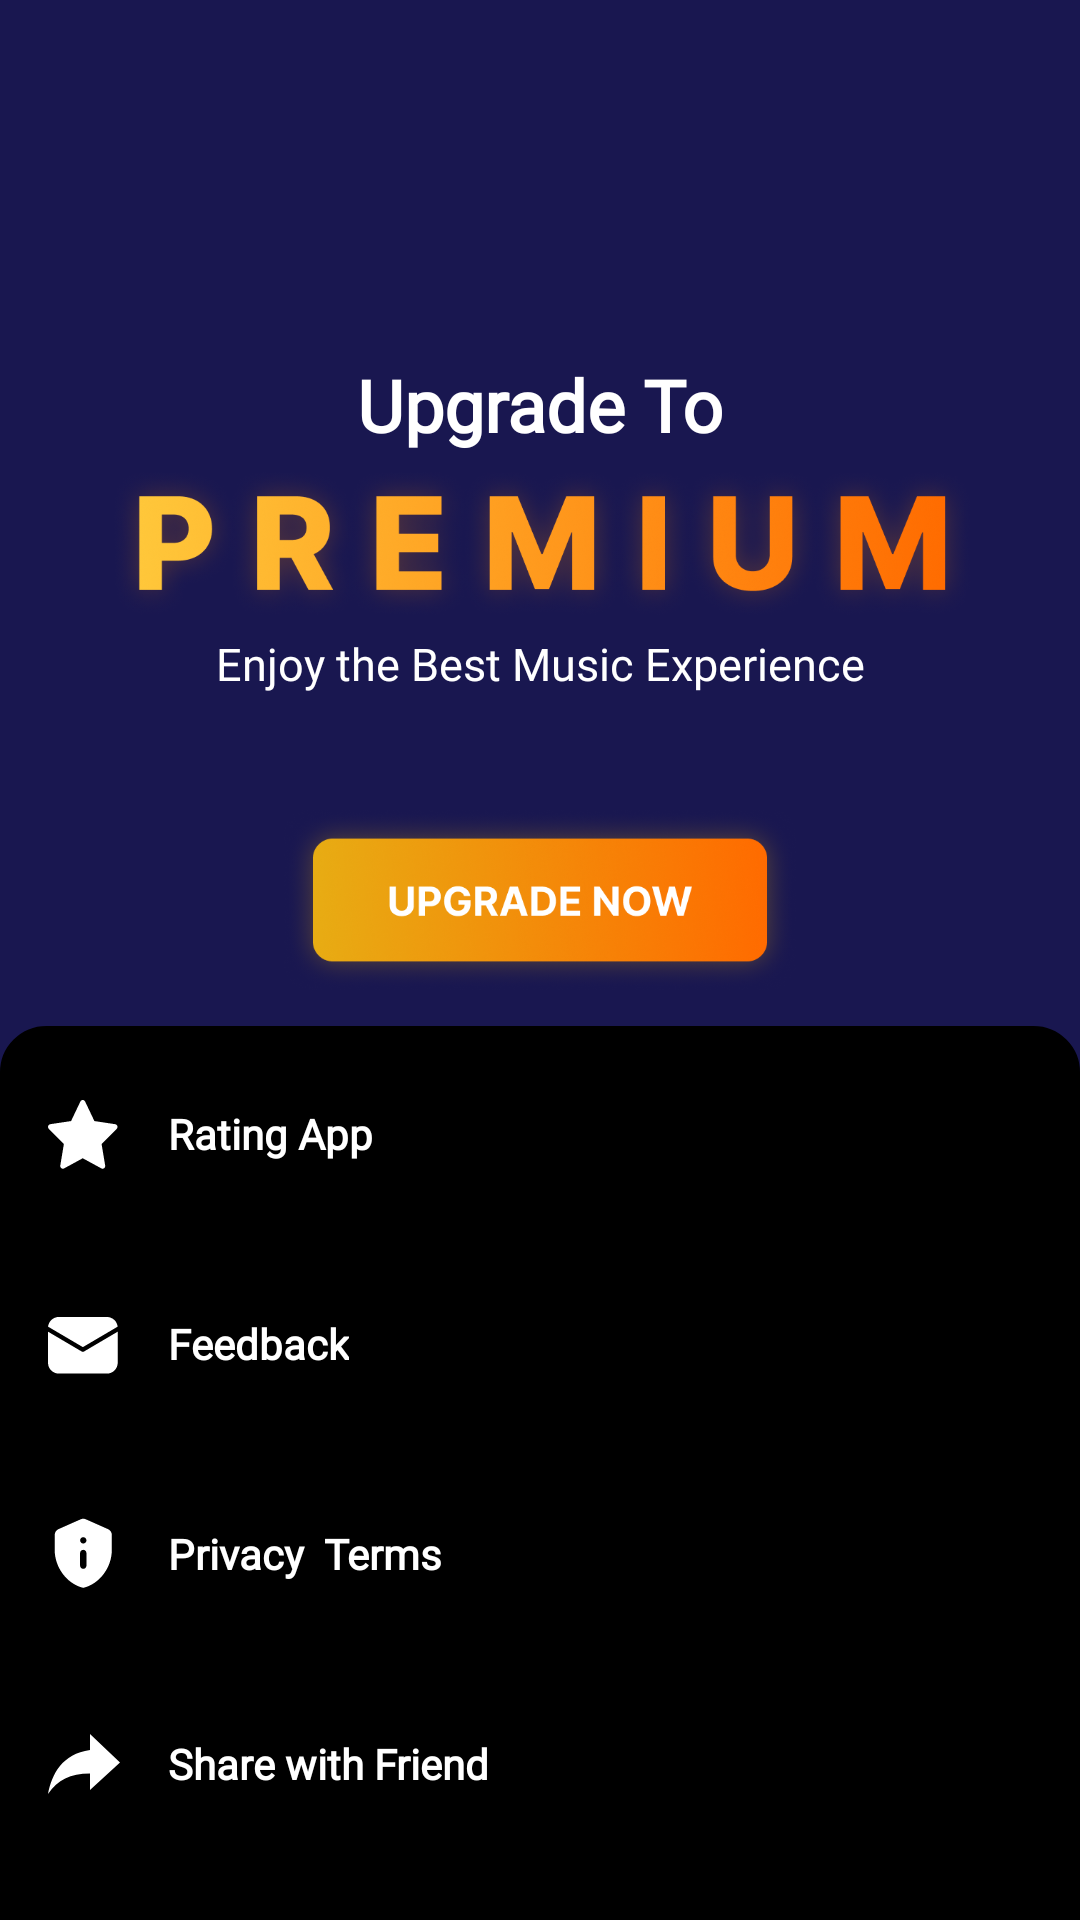

Named icons in this screenshot (1080x1920) and their bounding boxes, (x1, y1, x2, y2):
share song: (48, 1734, 120, 1794)
